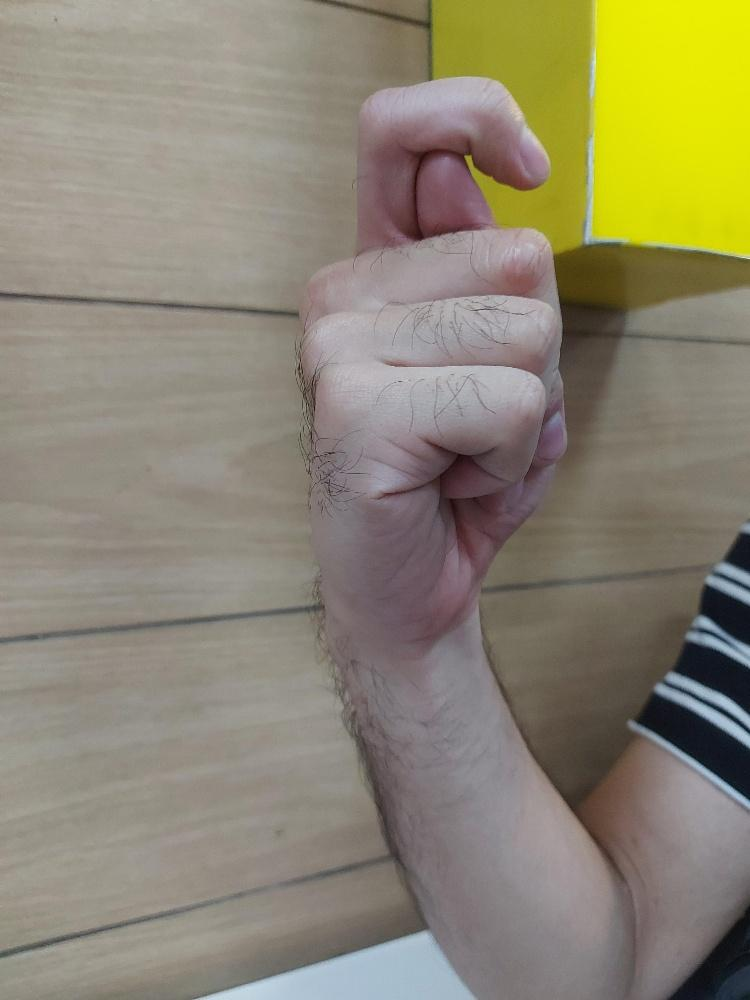t: (297, 72, 570, 648)
